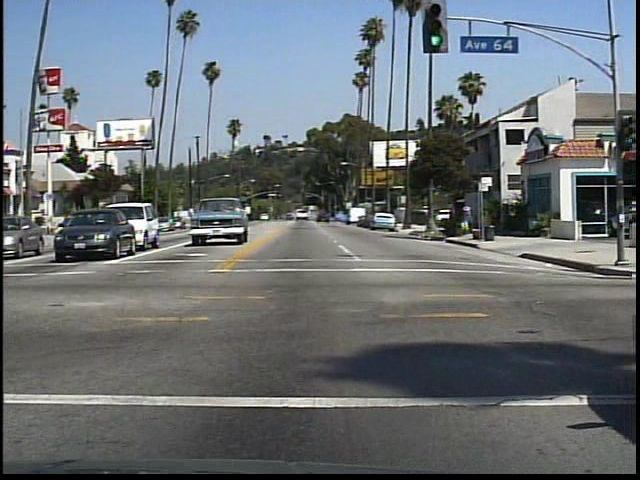person: (461, 203, 475, 235)
